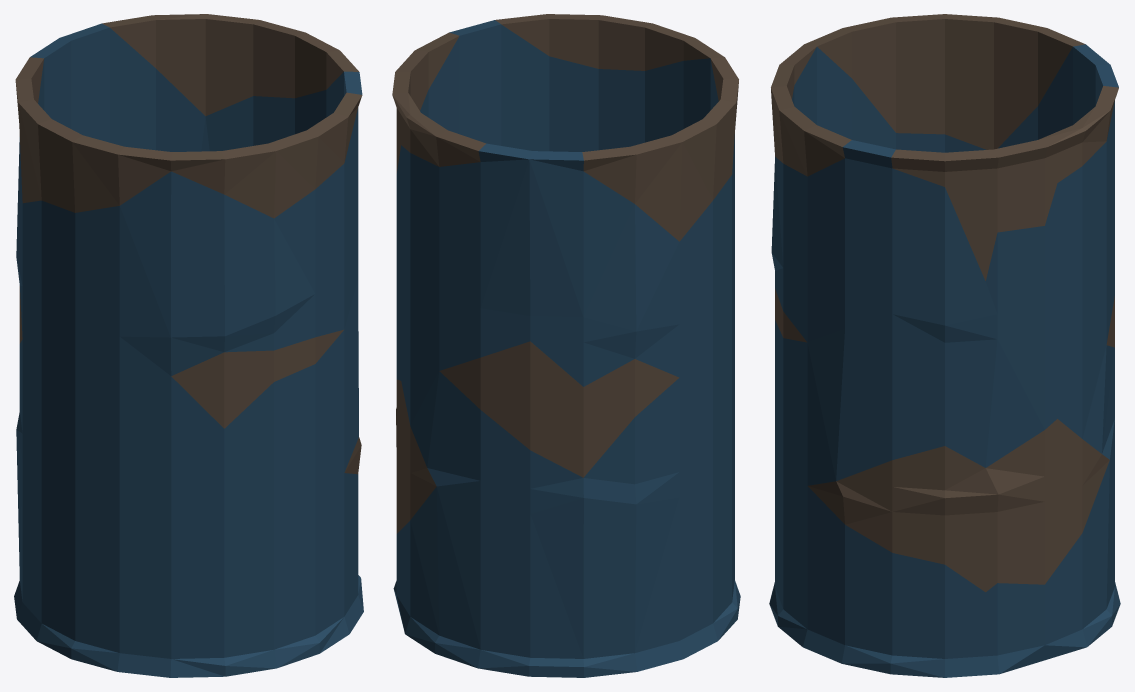
File: barrel_lod.glb
3 views of the same model, side by side, from view 1: azimuth 30°, elevation 25°; view 2: azimuth 150°, elevation 25°; view 3: azimuth 270°, elevation 25° (orthographic).
Parts seen in each view (by area): view 1: Barrel; view 2: Barrel; view 3: Barrel.
Boxes of the visible parts, bbox=[...] form: Barrel: bbox=[14, 14, 363, 677]; Barrel: bbox=[392, 14, 740, 677]; Barrel: bbox=[769, 14, 1120, 677].
Size of the model in its own units: 0.7041 by 1.14 by 0.7041.
Materials: 1 (1 with a texture image).
